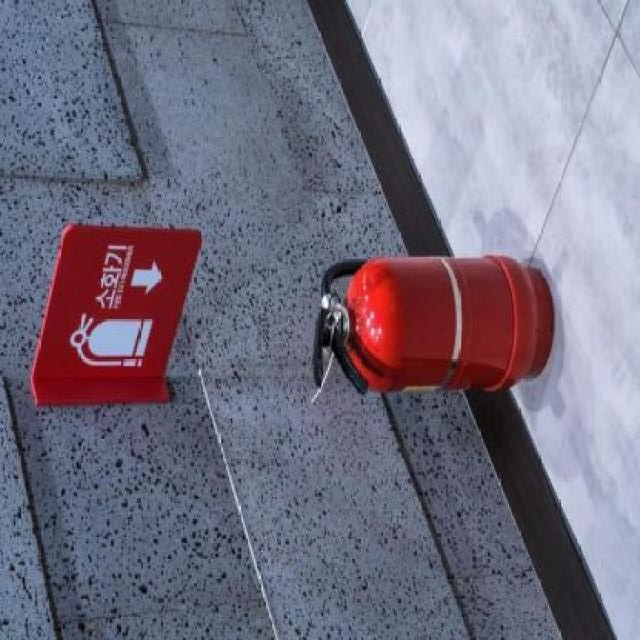fire extinguisher: (311, 256, 554, 396)
